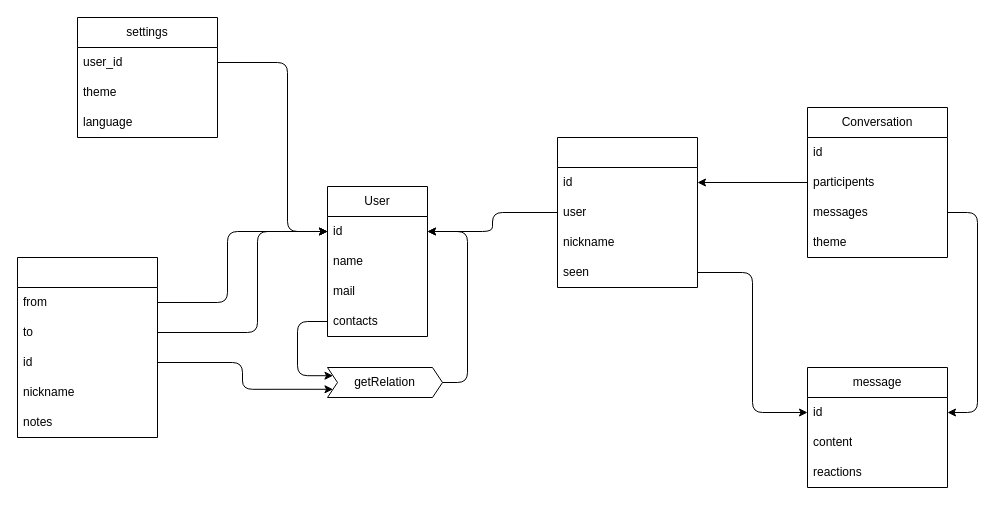
Image size: 1003x505. Some labels were removed from this diagram. The box of each missing label's shape, as (x1, y1, x2, y2) in pixels:
Participent: (556, 136, 698, 288)
relationship: (16, 256, 158, 438)
